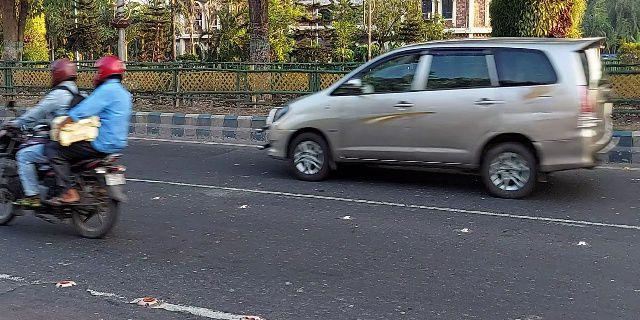Car: (254, 36, 614, 199)
Motorbike: (1, 59, 135, 245)
